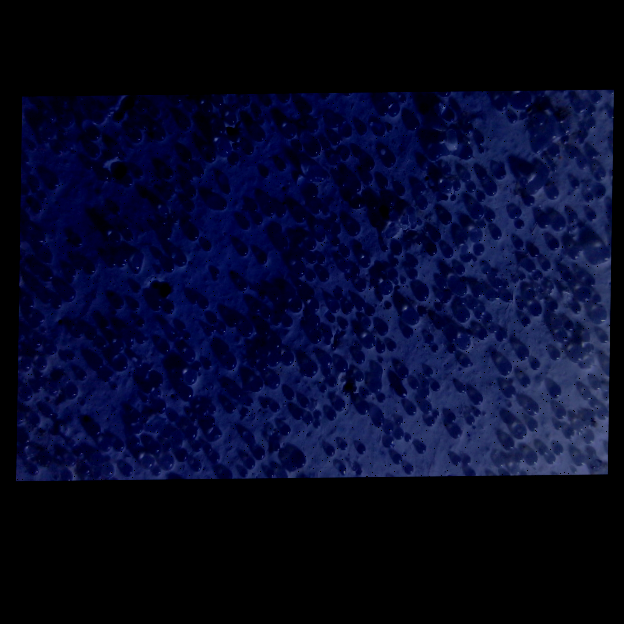GrassBeadSeg: (401, 308, 420, 326), (512, 93, 532, 110), (289, 452, 306, 470), (208, 196, 228, 211), (216, 140, 232, 157), (414, 285, 430, 301), (113, 356, 129, 372), (238, 322, 255, 337), (455, 335, 472, 350), (306, 142, 322, 157), (427, 146, 443, 161), (159, 456, 176, 470), (346, 223, 362, 237), (281, 125, 297, 139), (551, 217, 567, 231), (170, 432, 184, 448), (455, 309, 470, 323), (293, 209, 308, 223), (265, 375, 280, 389), (62, 287, 76, 302), (223, 356, 237, 370), (368, 380, 382, 394), (379, 281, 393, 295), (184, 371, 198, 385), (256, 321, 270, 335), (304, 361, 318, 375), (485, 182, 499, 196), (348, 180, 362, 194), (249, 379, 264, 392), (179, 387, 194, 400), (101, 464, 116, 477), (140, 456, 155, 469), (150, 374, 165, 387), (532, 114, 547, 127), (174, 254, 188, 267), (498, 362, 512, 375), (356, 402, 370, 415), (383, 154, 396, 168), (20, 389, 34, 402), (495, 97, 508, 111), (516, 348, 530, 361), (282, 352, 295, 366), (514, 426, 527, 440), (493, 167, 507, 180), (445, 330, 459, 343), (372, 123, 385, 137), (213, 123, 227, 136), (471, 205, 484, 219), (185, 229, 200, 241), (349, 197, 364, 209), (135, 101, 150, 113), (449, 426, 462, 439), (549, 386, 562, 399), (525, 453, 538, 466), (309, 331, 322, 344), (204, 150, 217, 163), (358, 256, 371, 269), (328, 301, 341, 314), (307, 120, 320, 133), (456, 232, 469, 245), (470, 230, 483, 243), (353, 352, 366, 365), (546, 187, 560, 199), (99, 369, 113, 381), (225, 315, 239, 327), (158, 229, 172, 241), (361, 159, 375, 171), (366, 199, 380, 211), (304, 188, 318, 200), (64, 386, 78, 398), (354, 280, 367, 292), (162, 302, 175, 314), (88, 425, 101, 437), (439, 213, 452, 225), (362, 336, 375, 348), (377, 323, 389, 336), (161, 168, 174, 180), (121, 176, 134, 188), (292, 264, 305, 276), (537, 216, 550, 228), (183, 350, 196, 362), (47, 178, 59, 191), (262, 205, 275, 217), (149, 299, 162, 311), (526, 403, 539, 415), (201, 102, 213, 115), (268, 290, 281, 302), (185, 427, 198, 439), (99, 169, 111, 182), (88, 146, 100, 159), (130, 130, 142, 143), (153, 129, 165, 142), (185, 100, 197, 113), (290, 299, 302, 312), (397, 366, 409, 379), (275, 239, 288, 251), (268, 337, 281, 349), (267, 354, 280, 366), (503, 387, 517, 398), (415, 199, 429, 210), (228, 154, 240, 166), (122, 465, 134, 477), (185, 187, 197, 199), (198, 298, 210, 310), (191, 461, 203, 473), (29, 415, 41, 427), (41, 129, 53, 141), (557, 331, 569, 343), (338, 261, 350, 273), (594, 186, 606, 198), (90, 129, 102, 141), (179, 119, 191, 131), (388, 105, 400, 117), (407, 119, 419, 131), (418, 103, 430, 115), (531, 142, 543, 154), (586, 148, 598, 160), (594, 169, 606, 181), (311, 202, 323, 214), (336, 360, 348, 372), (334, 399, 346, 411), (158, 343, 171, 354), (253, 449, 266, 460), (180, 152, 193, 163), (377, 104, 388, 117), (360, 174, 373, 185), (148, 443, 161, 454), (148, 108, 161, 119), (188, 294, 201, 305), (129, 412, 142, 423), (574, 455, 587, 466), (177, 451, 190, 462), (509, 208, 522, 219), (531, 304, 542, 317), (596, 310, 607, 323), (60, 471, 74, 481), (277, 93, 291, 103), (244, 458, 256, 469), (523, 196, 535, 207), (318, 271, 330, 282), (430, 231, 442, 242), (237, 281, 249, 292), (256, 253, 268, 264), (491, 228, 502, 240), (217, 344, 229, 355), (250, 301, 262, 312), (28, 465, 40, 476), (155, 402, 167, 413), (354, 300, 366, 311), (370, 217, 382, 228), (493, 457, 505, 468), (440, 181, 451, 193), (486, 290, 498, 301), (62, 115, 73, 127), (578, 290, 589, 302), (573, 349, 584, 361), (237, 246, 250, 256), (109, 233, 122, 243), (230, 389, 243, 399), (201, 241, 212, 252), (406, 405, 417, 416), (383, 424, 394, 435), (504, 439, 515, 450), (530, 360, 541, 371), (377, 178, 388, 189), (392, 454, 403, 465), (485, 211, 496, 222), (550, 350, 561, 361), (584, 433, 595, 444), (420, 404, 431, 415), (590, 93, 601, 104), (208, 314, 219, 325), (373, 417, 384, 428), (585, 120, 596, 131), (462, 148, 473, 159), (65, 456, 76, 467), (473, 245, 485, 255), (386, 342, 398, 352), (163, 263, 175, 273), (276, 206, 286, 218), (293, 410, 305, 420), (310, 316, 322, 326), (356, 444, 367, 454), (416, 444, 427, 454), (564, 429, 575, 439), (280, 426, 291, 436), (184, 202, 195, 212), (113, 441, 124, 451), (73, 237, 83, 248), (403, 328, 414, 338), (445, 414, 456, 424), (209, 453, 220, 463), (240, 220, 251, 230), (508, 114, 519, 124), (375, 344, 386, 354), (496, 332, 507, 342), (365, 306, 376, 316), (502, 293, 513, 303), (477, 330, 487, 341), (129, 437, 140, 447), (424, 334, 435, 344), (382, 438, 393, 448), (204, 327, 215, 337), (194, 167, 205, 177), (329, 156, 340, 166), (170, 331, 181, 341), (198, 406, 208, 417), (169, 412, 180, 422), (66, 268, 76, 279), (42, 293, 52, 304), (24, 299, 34, 310), (47, 344, 57, 355), (226, 115, 237, 125), (276, 162, 287, 172), (330, 117, 341, 127), (356, 125, 367, 135), (444, 112, 455, 122), (473, 394, 483, 405), (420, 388, 430, 399), (101, 441, 112, 451), (74, 447, 85, 457), (40, 456, 51, 466), (221, 470, 233, 479), (204, 417, 216, 426), (247, 203, 259, 212), (325, 446, 335, 456), (521, 377, 531, 387), (528, 421, 538, 431), (134, 169, 144, 179), (408, 270, 418, 280), (253, 216, 263, 226), (456, 384, 466, 394), (303, 415, 313, 425), (526, 291, 536, 301), (86, 264, 96, 274), (52, 299, 62, 309), (172, 95, 182, 105), (213, 97, 223, 107), (244, 145, 254, 155), (255, 131, 265, 141), (293, 143, 303, 153), (342, 127, 352, 137), (377, 92, 387, 102), (542, 262, 552, 272), (589, 398, 599, 408), (435, 320, 445, 330), (240, 407, 250, 417), (225, 404, 236, 413), (514, 220, 525, 229), (599, 334, 610, 343), (577, 160, 588, 169), (132, 425, 143, 434), (462, 455, 471, 466), (336, 178, 347, 187), (43, 252, 52, 263), (44, 271, 53, 282), (32, 337, 41, 348), (37, 359, 46, 370), (22, 360, 31, 371), (88, 329, 97, 340), (100, 319, 109, 330), (94, 358, 103, 369), (114, 298, 123, 309), (107, 257, 116, 268), (34, 381, 43, 392), (49, 385, 58, 396), (78, 370, 87, 381), (430, 382, 440, 391), (564, 322, 574, 331), (404, 465, 414, 474), (331, 238, 341, 247), (522, 317, 531, 327), (451, 456, 461, 465), (584, 194, 594, 203), (548, 302, 558, 311), (316, 255, 326, 264), (360, 389, 370, 398), (193, 443, 203, 452), (177, 323, 187, 332), (408, 258, 418, 267), (419, 308, 429, 317), (466, 416, 475, 426), (36, 313, 45, 323), (420, 160, 429, 170), (442, 165, 451, 175), (452, 181, 461, 191), (397, 186, 406, 196), (478, 170, 487, 180), (551, 147, 560, 157), (569, 212, 578, 222), (527, 263, 536, 273), (531, 248, 540, 258), (493, 279, 502, 289), (586, 358, 595, 368), (582, 390, 591, 400), (592, 381, 601, 391), (598, 409, 607, 419), (554, 421, 563, 431), (554, 446, 563, 456), (441, 293, 450, 303), (458, 286, 467, 296), (444, 248, 453, 258), (393, 245, 402, 255), (389, 269, 398, 279), (351, 267, 360, 277), (456, 265, 465, 275), (279, 303, 288, 313), (286, 288, 295, 298), (306, 272, 316, 281), (323, 357, 332, 367), (327, 410, 336, 420), (271, 403, 280, 413), (260, 399, 270, 408), (213, 429, 222, 439), (174, 372, 183, 382), (273, 315, 282, 325), (218, 324, 227, 334), (355, 372, 364, 382), (398, 388, 407, 398), (395, 429, 404, 439), (244, 397, 253, 407), (284, 317, 293, 327), (305, 289, 314, 299), (307, 240, 316, 250), (316, 232, 325, 242), (424, 418, 435, 426), (338, 465, 347, 474), (461, 173, 470, 182), (416, 184, 425, 193), (385, 196, 394, 205), (475, 136, 484, 145), (529, 184, 538, 193), (588, 212, 597, 221), (570, 251, 579, 260), (550, 241, 559, 250), (586, 278, 595, 287), (577, 271, 586, 280), (564, 272, 573, 281), (534, 271, 543, 280), (515, 240, 524, 249), (572, 305, 581, 314), (592, 295, 601, 304), (557, 410, 566, 419), (540, 446, 549, 455), (468, 299, 477, 308), (473, 288, 482, 297), (428, 246, 437, 255), (362, 318, 371, 327), (310, 303, 319, 312), (193, 362, 202, 371), (259, 289, 268, 298), (286, 391, 295, 400), (300, 398, 309, 407), (263, 309, 272, 318), (258, 362, 267, 371), (476, 194, 486, 202), (546, 456, 556, 464), (152, 468, 162, 476), (414, 237, 424, 245), (204, 360, 212, 370), (377, 394, 386, 402), (424, 368, 433, 376), (390, 259, 399, 267), (204, 444, 213, 452), (517, 302, 526, 310), (55, 146, 63, 155), (32, 184, 40, 193), (22, 187, 30, 196), (37, 236, 45, 245), (75, 260, 83, 269), (137, 319, 145, 328), (133, 284, 141, 293), (112, 206, 120, 215), (140, 121, 148, 130), (475, 311, 483, 320), (515, 454, 523, 463), (421, 379, 429, 388), (448, 345, 456, 354), (431, 344, 439, 353), (462, 358, 470, 367), (340, 320, 348, 329), (308, 255, 316, 264), (333, 227, 341, 236), (314, 410, 322, 419), (293, 238, 301, 247), (404, 434, 412, 442), (29, 143, 37, 151), (39, 193, 47, 201), (133, 265, 141, 273), (125, 233, 133, 241), (254, 109, 262, 117), (262, 170, 270, 178), (485, 315, 493, 323), (439, 280, 447, 288), (328, 315, 336, 323), (343, 306, 351, 314), (294, 280, 302, 288), (296, 252, 304, 260), (342, 249, 350, 257), (209, 406, 217, 414), (383, 302, 392, 309), (467, 185, 476, 192), (141, 396, 150, 403), (35, 204, 42, 213), (233, 141, 240, 150), (354, 149, 361, 158), (412, 380, 419, 389), (323, 368, 330, 377), (212, 268, 219, 277), (314, 420, 321, 429), (340, 442, 347, 451), (110, 383, 118, 390), (86, 162, 93, 170), (132, 302, 139, 310), (155, 251, 162, 259), (243, 98, 250, 106), (265, 99, 272, 107), (299, 106, 306, 114), (306, 106, 313, 114), (323, 142, 330, 150), (332, 137, 339, 145), (396, 418, 403, 426), (490, 325, 497, 333), (273, 444, 280, 452), (82, 467, 90, 474), (95, 472, 103, 479), (320, 385, 327, 393), (329, 379, 336, 387), (250, 440, 257, 448), (380, 246, 389, 252), (400, 277, 407, 284), (400, 96, 407, 103), (241, 470, 248, 477), (267, 471, 274, 478), (183, 333, 191, 339), (152, 427, 160, 433), (77, 331, 83, 338), (64, 355, 70, 362), (127, 335, 133, 342), (139, 337, 145, 344), (122, 255, 128, 262), (119, 261, 125, 268), (156, 267, 162, 274), (386, 125, 392, 132), (467, 126, 473, 133), (531, 130, 537, 137), (562, 138, 568, 145), (570, 153, 576, 160), (573, 181, 579, 188), (579, 222, 585, 229), (520, 274, 526, 281), (503, 281, 509, 288), (483, 268, 489, 275), (463, 246, 469, 253), (465, 255, 471, 262), (474, 410, 481, 416), (433, 411, 440, 417), (480, 221, 486, 228), (142, 373, 148, 380), (155, 392, 161, 399), (165, 444, 171, 451), (192, 414, 198, 421), (69, 440, 75, 447), (61, 426, 67, 433), (24, 453, 30, 460), (46, 410, 52, 417), (52, 413, 58, 420), (81, 399, 87, 406), (251, 360, 257, 367), (521, 114, 527, 120), (513, 277, 519, 283), (492, 272, 498, 278), (459, 299, 465, 305), (337, 295, 343, 301), (24, 437, 30, 443), (226, 189, 232, 195), (70, 353, 75, 360), (118, 344, 123, 351), (479, 147, 484, 154), (451, 194, 456, 201), (564, 127, 569, 134), (253, 347, 258, 354), (27, 168, 32, 174), (62, 100, 67, 106), (121, 154, 126, 160), (551, 133, 556, 139), (578, 107, 583, 113), (332, 215, 338, 220), (324, 210, 330, 215), (188, 178, 194, 183), (169, 214, 175, 219), (24, 160, 29, 165), (61, 131, 66, 136), (49, 116, 54, 121), (342, 156, 347, 161), (326, 227, 331, 232), (357, 245, 362, 250), (69, 145, 73, 151), (115, 149, 119, 155), (133, 123, 137, 129), (39, 373, 43, 378), (60, 375, 64, 380), (57, 363, 61, 368), (42, 328, 46, 333), (99, 344, 103, 349), (103, 343, 107, 348), (466, 140, 470, 145), (466, 119, 470, 124), (444, 196, 448, 201), (418, 221, 422, 226), (412, 219, 416, 224), (590, 110, 594, 115), (559, 118, 563, 123), (508, 403, 512, 408), (379, 268, 383, 273), (369, 284, 373, 289), (379, 358, 383, 363), (358, 345, 362, 350), (331, 344, 335, 349), (335, 336, 339, 341), (137, 361, 141, 366), (163, 417, 167, 422), (174, 218, 178, 223), (162, 220, 166, 225), (163, 210, 167, 215), (168, 194, 172, 199), (171, 190, 175, 195), (187, 216, 191, 221), (125, 225, 129, 230), (321, 177, 325, 181), (65, 380, 69, 384), (129, 343, 133, 347), (441, 137, 445, 141), (437, 199, 441, 203), (473, 257, 477, 261), (267, 198, 271, 202), (395, 280, 399, 284), (396, 286, 400, 290), (379, 297, 383, 301), (347, 276, 351, 280), (438, 307, 442, 311), (326, 341, 330, 345), (311, 407, 315, 411), (147, 366, 151, 370), (390, 207, 393, 211), (575, 138, 579, 141), (581, 140, 584, 144), (553, 165, 556, 169), (573, 469, 576, 473), (309, 178, 312, 182), (313, 176, 317, 179), (470, 363, 473, 367), (549, 162, 552, 165), (568, 230, 571, 233), (573, 227, 576, 230), (579, 249, 582, 252), (551, 286, 554, 289), (537, 286, 540, 289), (549, 291, 552, 294), (587, 424, 590, 427), (578, 432, 581, 435), (580, 428, 583, 431), (494, 451, 497, 454), (473, 426, 476, 429), (517, 470, 519, 474), (541, 290, 543, 293), (541, 297, 543, 300), (592, 425, 594, 428), (593, 466, 595, 469), (483, 412, 485, 415), (612, 90, 614, 91)
